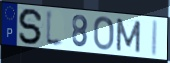8: (71, 14, 88, 48)
I: (150, 19, 160, 59)
L: (45, 8, 66, 50)
M: (115, 17, 142, 55)
O: (92, 15, 115, 52)
S: (17, 8, 45, 46)
